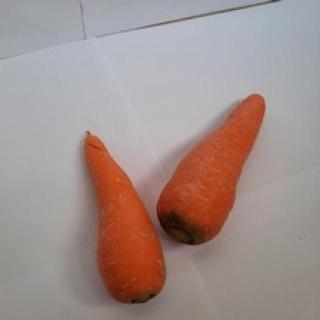carrot: (155, 89, 273, 245), (80, 127, 166, 307)
